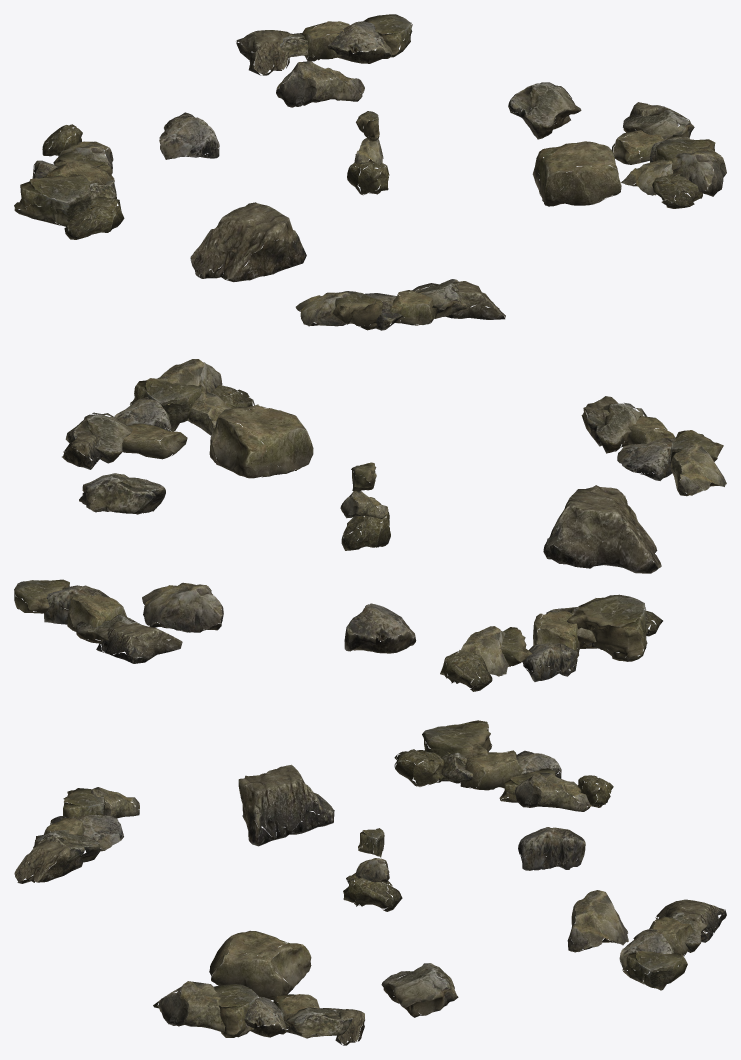
File: pond-rocks-hd.glb
The picture shows the model from 3 angles, top to bottom: view 1: azimuth 30°, elevation 25°; view 2: azimuth 150°, elevation 25°; view 3: azimuth 270°, elevation 25°; orthographic projection. The views are drawn at different scales.
Visible parts, largest first — view 1: bank-stones, pond-rocks, fountain; view 2: bank-stones, pond-rocks, fountain; view 3: bank-stones, pond-rocks, fountain.
Part boxes in pixels (x1,y1,x2,y2): bank-stones: (14, 14, 726, 330); pond-rocks: (159, 61, 621, 282); fountain: (347, 111, 389, 195); bank-stones: (14, 359, 726, 691); pond-rocks: (79, 404, 661, 653); fountain: (340, 462, 390, 550); bank-stones: (14, 720, 726, 1045); pond-rocks: (209, 764, 628, 1017); fountain: (343, 828, 402, 911).
Size of the model in its own units: 2.15 by 0.2682 by 2.17.
Materials: 1 (1 with a texture image).
